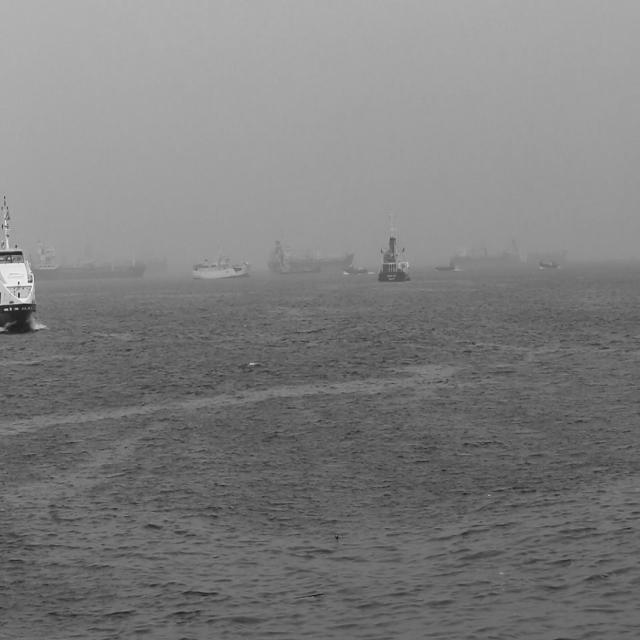ship: (0, 193, 37, 334), (32, 241, 148, 280), (265, 234, 356, 270), (378, 214, 408, 283), (446, 239, 520, 262), (192, 254, 252, 278), (526, 246, 570, 261), (345, 265, 370, 276), (538, 260, 559, 272), (434, 264, 456, 272)
